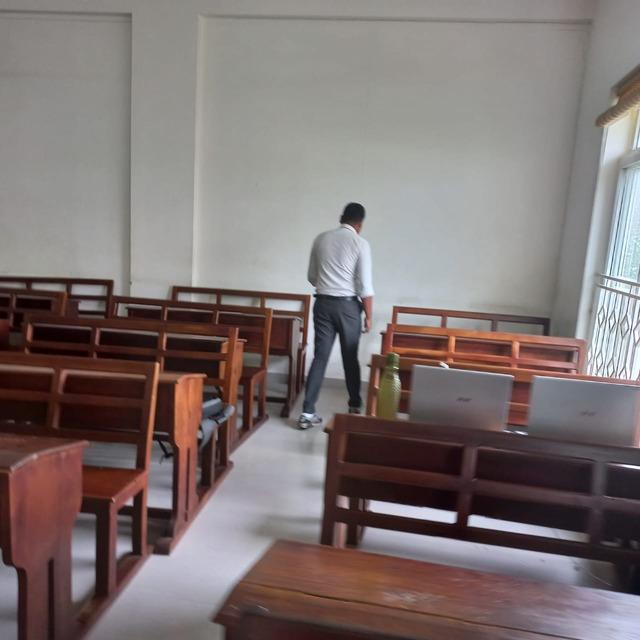no_gloves: (360, 312, 376, 336)
no_hairnet: (339, 200, 368, 222)
